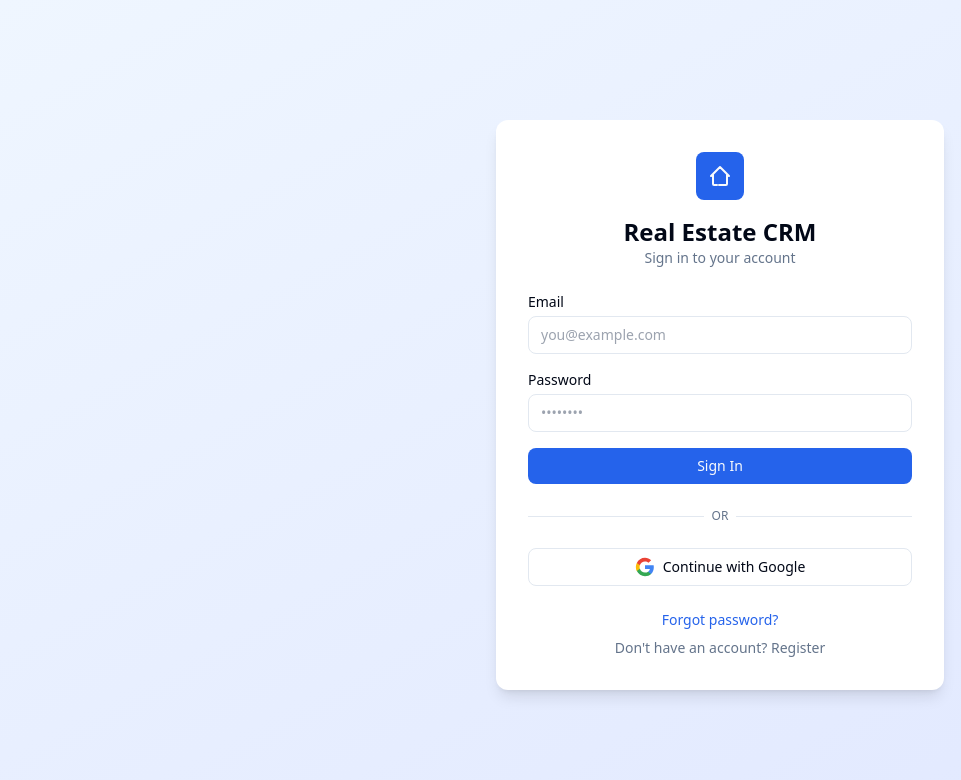
Test case: LoginPage › shows registration form toggle
Click the button "Don't have an account? Register" at (720,648), box [615, 638, 825, 658]
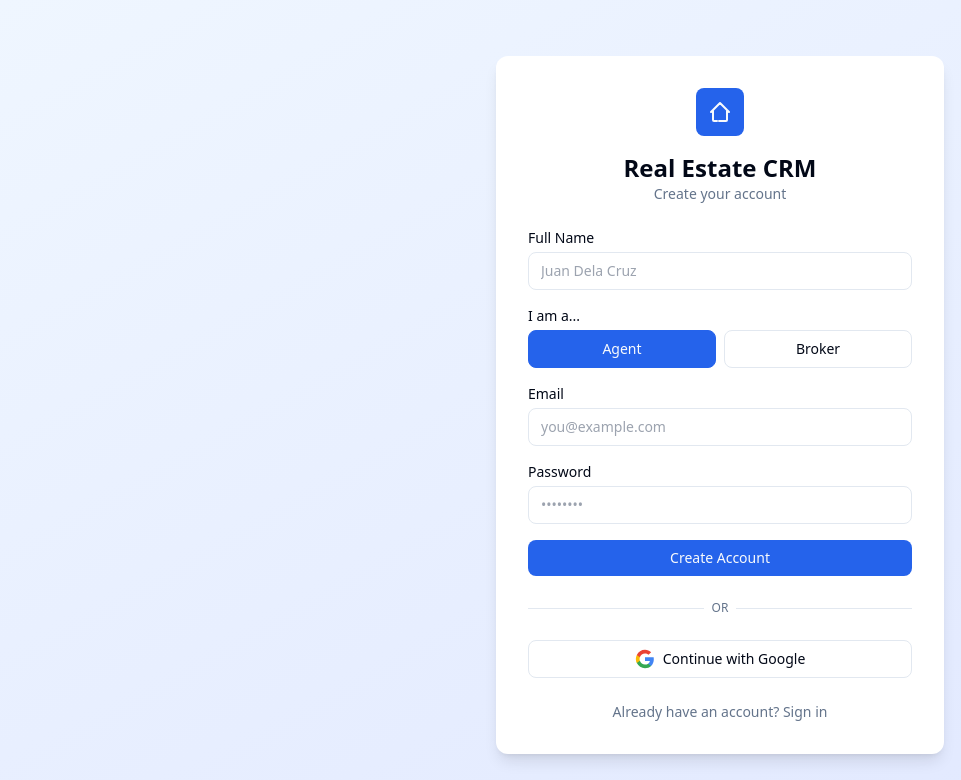
Now the text "Create your account" is shown, box [654, 184, 786, 203]
Now the button "Create Account" is shown, box [528, 540, 912, 576]
